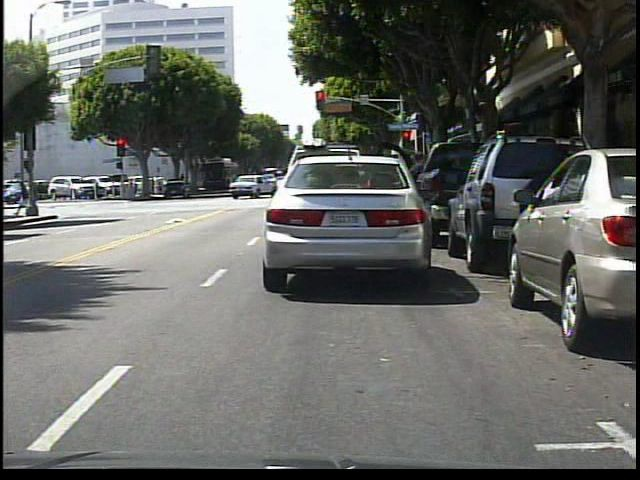person: (18, 181, 42, 219)
